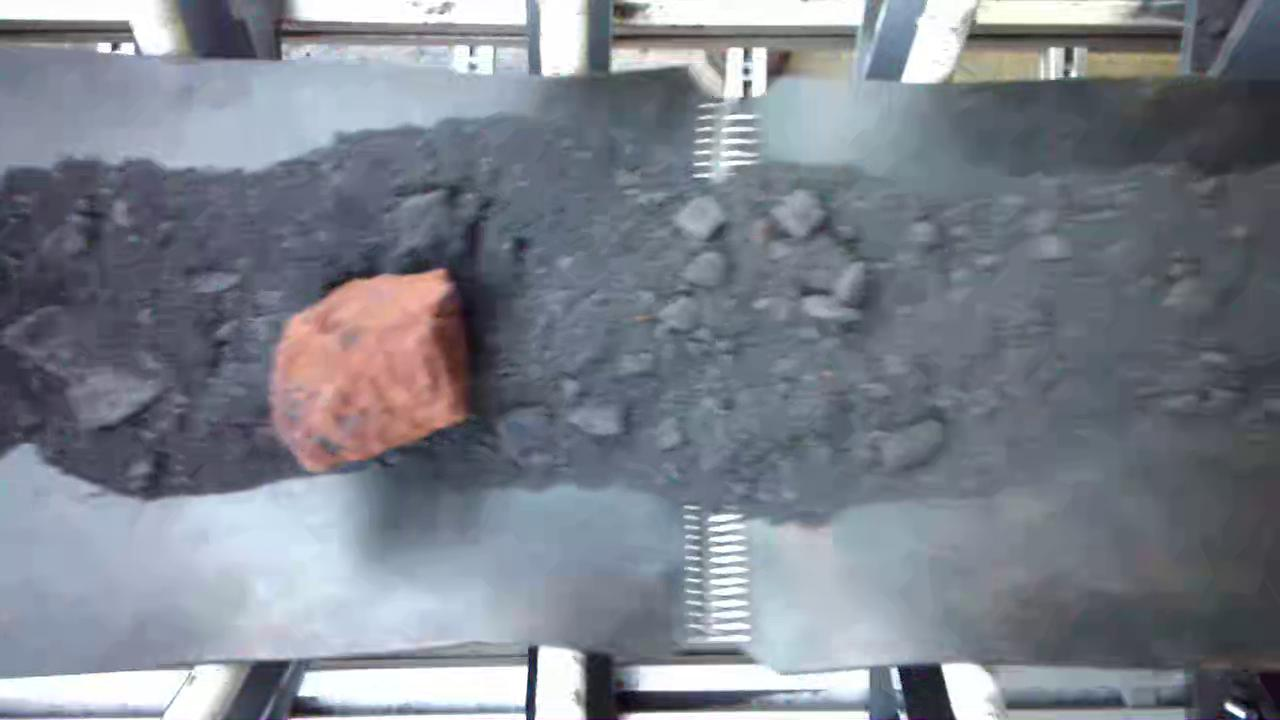conveyor: (3, 81, 1280, 657)
